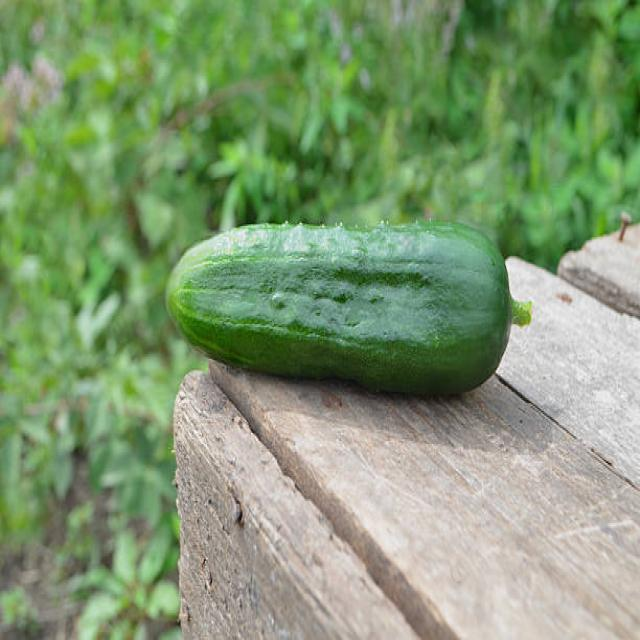cucumber: (166, 219, 510, 392)
